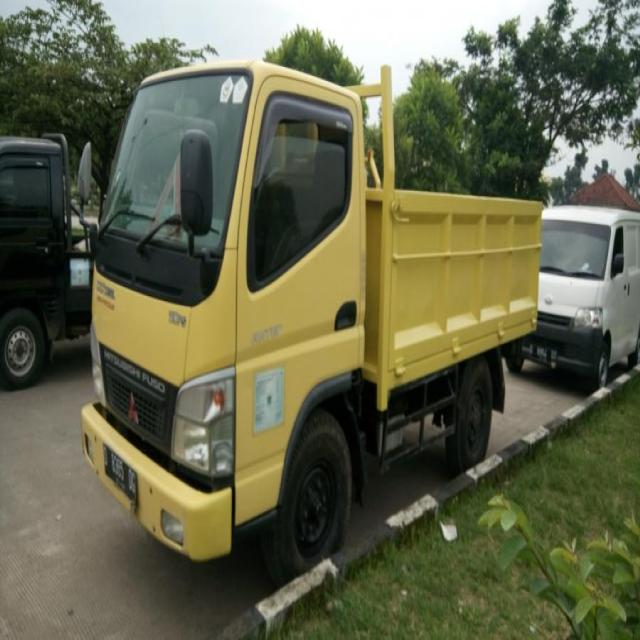truck: (55, 57, 539, 563)
